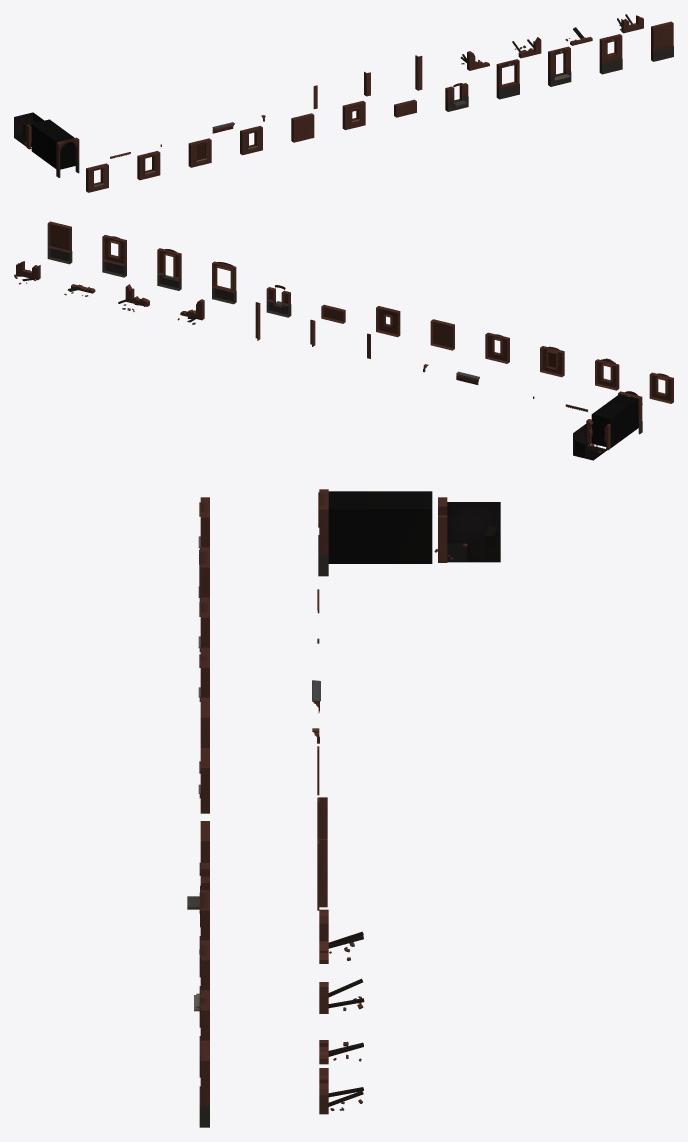
Rendered from kit_ladrillo.glb.
3 renders of one model, top to bottom at view 1: azimuth 30°, elevation 25°; view 2: azimuth 150°, elevation 25°; view 3: azimuth 270°, elevation 25°, orthographic. The views are drawn at different scales.
Visible parts, largest first — view 1: ladrillo_bajo_arco, ladrillo_bajo_ciego, ladrillo_bajo_ventana, ladrillo_bajo_portal, ladrillo_bajo_escaparate, ladrillo_hueco, ladrillo_patio_ciego, ladrillo_ciego, ladrillo_patio_escalera, ladrillo_patio_puerta, ladrillo_ventana_frontoncillo, ladrillo_patio_ventana (+5 smaller); view 2: ladrillo_bajo_arco, ladrillo_bajo_ciego, ladrillo_hueco, ladrillo_bajo_ventana, ladrillo_bajo_portal, ladrillo_bajo_escaparate, ladrillo_ciego, ladrillo_patio_ciego, ladrillo_patio_escalera, ladrillo_patio_puerta, ladrillo_ventana_frontoncillo, ladrillo_patio_ventana (+3 smaller); view 3: ladrillo_bajo_arco, ladrillo_hueco, ladrillo_bajo_ciego.
Boxes of the visible parts, x1,y1,x2,y2 form: ladrillo_bajo_arco: (31,119,79,177); ladrillo_bajo_ciego: (651,21,673,61); ladrillo_bajo_ventana: (599,34,622,74); ladrillo_bajo_portal: (548,46,571,86); ladrillo_bajo_escaparate: (496,59,519,99); ladrillo_hueco: (14,112,43,149); ladrillo_patio_ciego: (291,113,314,142); ladrillo_ciego: (188,138,211,167); ladrillo_patio_escalera: (342,101,365,130); ladrillo_patio_puerta: (445,83,468,111); ladrillo_ventana_frontoncillo: (137,151,160,180); ladrillo_patio_ventana: (240,126,262,155); ladrillo_bajo_arco: (591,391,642,447); ladrillo_bajo_ciego: (47,221,72,264); ladrillo_hueco: (573,419,610,460); ladrillo_bajo_ventana: (102,235,126,277); ladrillo_bajo_portal: (157,248,181,290); ladrillo_bajo_escaparate: (212,261,236,304); ladrillo_ciego: (540,346,564,377); ladrillo_patio_ciego: (430,319,454,350); ladrillo_patio_escalera: (376,306,400,337); ladrillo_patio_puerta: (266,285,291,317); ladrillo_ventana_frontoncillo: (595,358,619,390); ladrillo_patio_ventana: (485,332,509,363); ladrillo_bajo_arco: (318,489,432,576); ladrillo_hueco: (434,497,500,562); ladrillo_bajo_ciego: (199,1040,209,1127).
Bounding box in the file's own units: 91.2 × 5.34 × 21.14.
